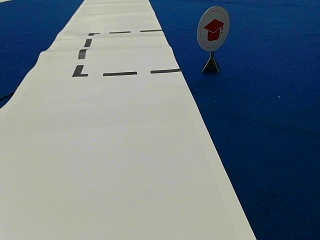school: (196, 7, 229, 51)
